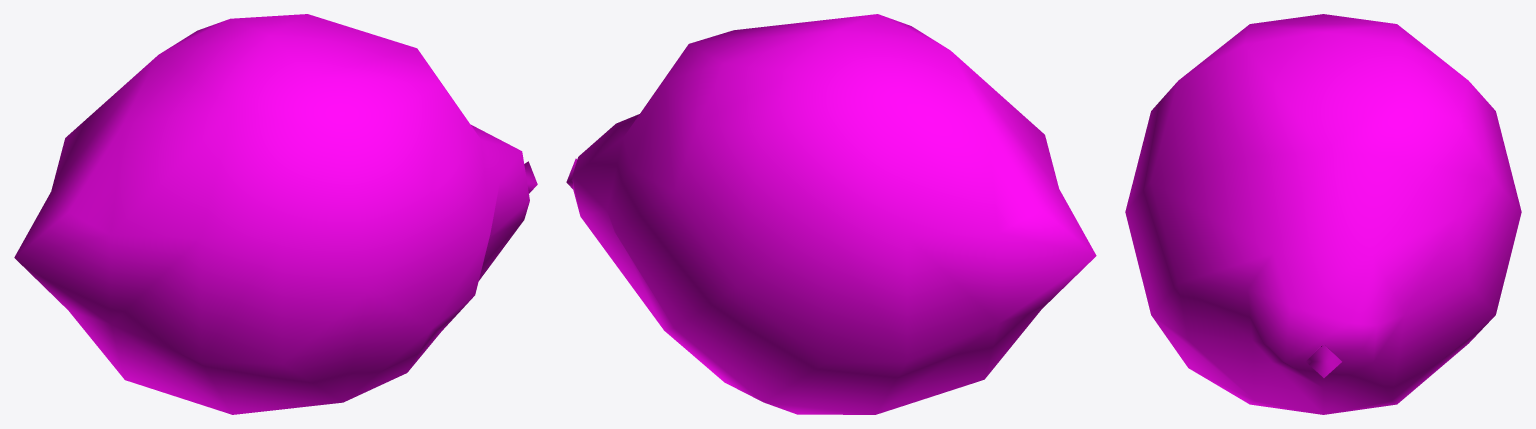
File: citron_meshCollider.fbx
3 views of the same model, side by side, from view 1: azimuth 30°, elevation 25°; view 2: azimuth 150°, elevation 25°; view 3: azimuth 270°, elevation 25° (orthographic).
Visible parts, largest first — view 1: foods_citron_meshCollider; view 2: foods_citron_meshCollider; view 3: foods_citron_meshCollider.
Boxes of the visible parts, x1,y1,x2,y2 form: foods_citron_meshCollider: [14, 14, 537, 414]; foods_citron_meshCollider: [566, 14, 1096, 414]; foods_citron_meshCollider: [1125, 14, 1521, 414].
Bounding box in the file's own units: 15.12 × 10.16 × 10.16.
